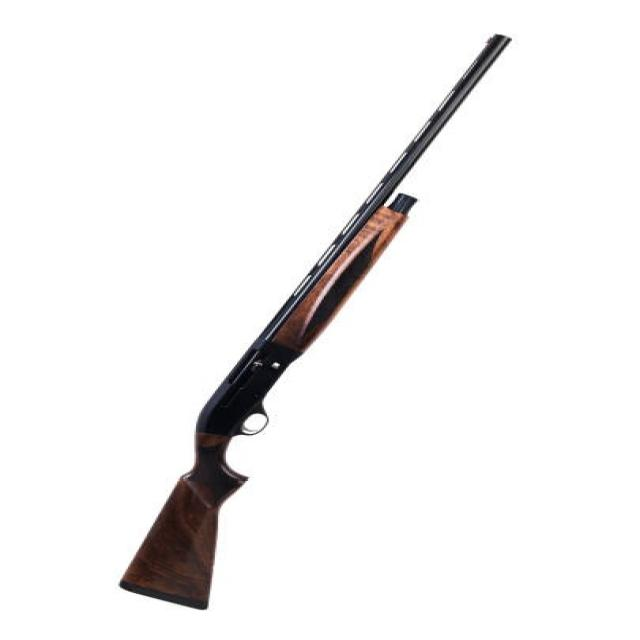rifle: (118, 30, 523, 615)
